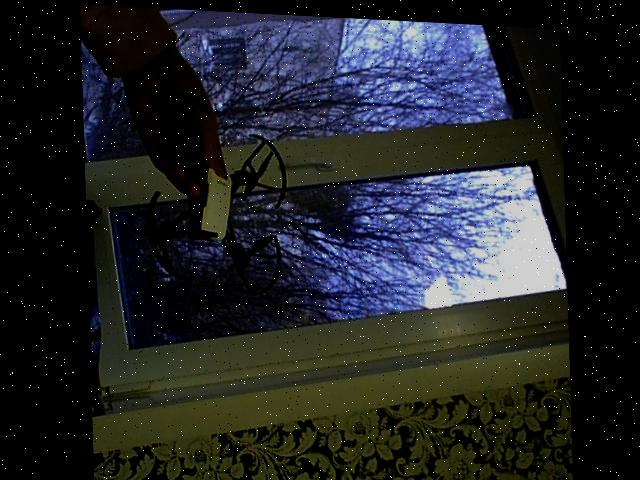drone: (131, 88, 292, 305)
